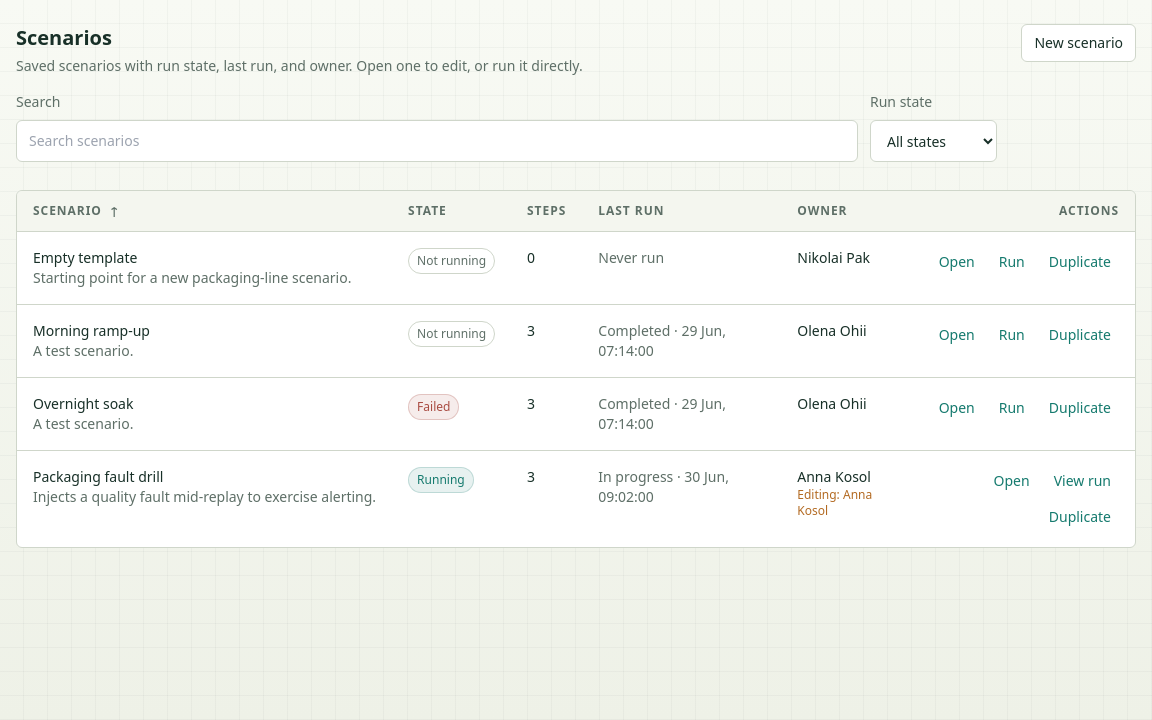
Test: ScenariosPage › filters by search across name/owner
Type "packaging" into the search field with placeholder "Search scenarios".
click(437, 141); type("packaging")  # box [16,120,858,162]
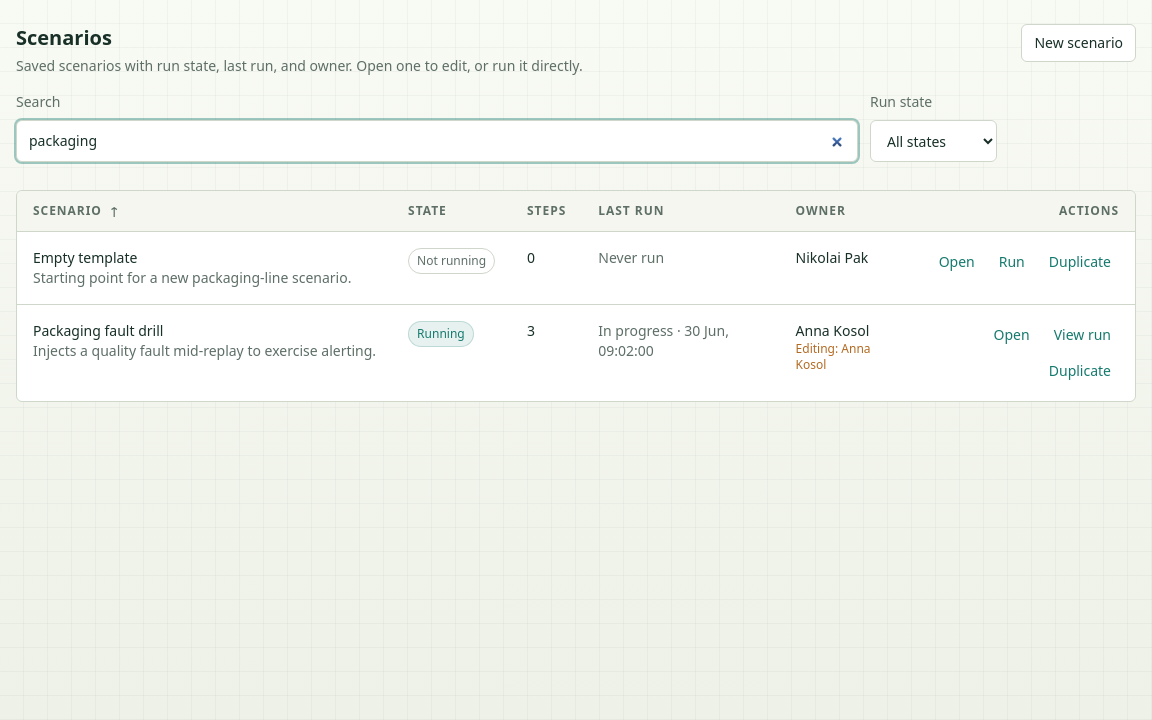
Expected: the text "Packaging fault drill" is shown, [33,321,163,340]
Expected: the text "Morning ramp-up" is gone
